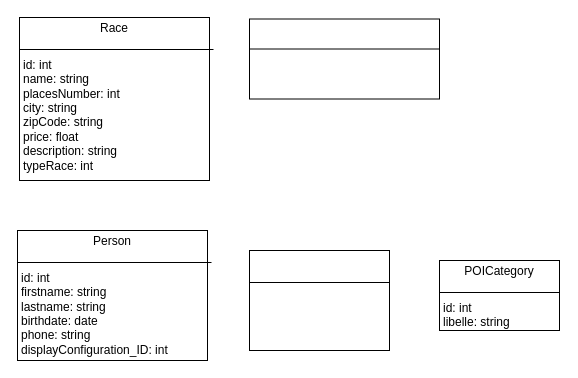
The diagram is 578 pixels wide and 378 high, and some of its shapes have lost their labels. The shapes that lost their labels are listed below. From the top down, each one's centre as x and y in pixels, then its label:
point (344, 58): RaceType id: int libelle: string
point (319, 300): POI id: int latitude: float longitude: float categoryPOI_ID: int
